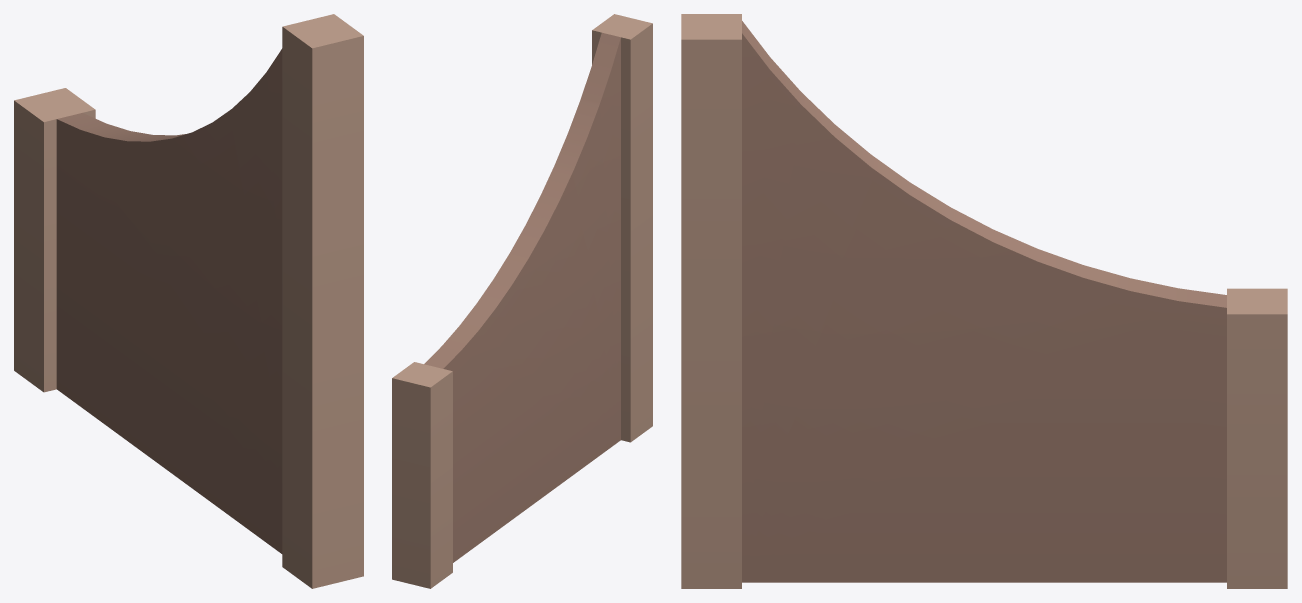
Rendered from wall-wood-slope.glb.
3 renders of one model, left to right at view 1: azimuth 30°, elevation 25°; view 2: azimuth 150°, elevation 25°; view 3: azimuth 270°, elevation 25°, orthographic. The views are drawn at different scales.
Parts seen in each view (by area): view 1: wall-wood-slope; view 2: wall-wood-slope; view 3: wall-wood-slope.
Part boxes in pixels (x1=…): wall-wood-slope: x1=14, y1=14, x2=363, y2=588; wall-wood-slope: x1=392, y1=14, x2=652, y2=588; wall-wood-slope: x1=681, y1=14, x2=1287, y2=588.
Size of the model in its own units: 0.1 by 1 by 1.
